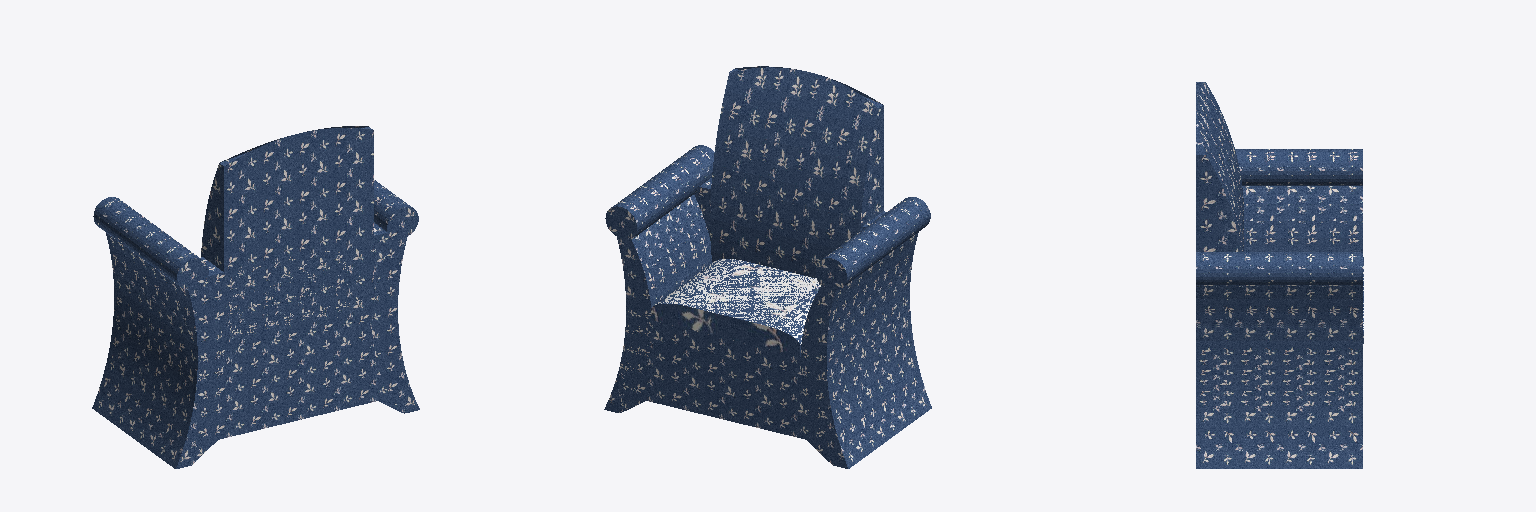
The picture shows the model from 3 angles: view 1: azimuth 30°, elevation 25°; view 2: azimuth 150°, elevation 25°; view 3: azimuth 270°, elevation 25°; orthographic projection.
Visible parts, largest first — view 1: mesh6_mesh6-geometry, mesh8_mesh8-geometry, mesh4_mesh4-geometry, mesh1_mesh1-geometry; view 2: mesh6_mesh6-geometry, mesh8_mesh8-geometry, mesh4_mesh4-geometry, mesh1_mesh1-geometry, mesh12_mesh12-geometry; view 3: mesh1_mesh1-geometry, mesh4_mesh4-geometry, mesh8_mesh8-geometry, mesh6_mesh6-geometry.
Boxes of the visible parts, <box> form: mesh6_mesh6-geometry: <box>201,126,373,349</box>; mesh8_mesh8-geometry: <box>108,223,402,464</box>; mesh4_mesh4-geometry: <box>92,197,223,468</box>; mesh1_mesh1-geometry: <box>372,180,419,413</box>; mesh6_mesh6-geometry: <box>710,66,883,277</box>; mesh8_mesh8-geometry: <box>620,178,915,464</box>; mesh4_mesh4-geometry: <box>801,197,931,468</box>; mesh1_mesh1-geometry: <box>604,145,714,412</box>; mesh12_mesh12-geometry: <box>651,259,820,356</box>; mesh1_mesh1-geometry: <box>1196,252,1362,468</box>; mesh4_mesh4-geometry: <box>1235,149,1362,251</box>; mesh8_mesh8-geometry: <box>1196,350,1362,411</box>; mesh6_mesh6-geometry: <box>1196,82,1243,251</box>.
Size of the model in its own units: 0.5992 by 0.717 by 0.3561.
4 materials, 1 textured.